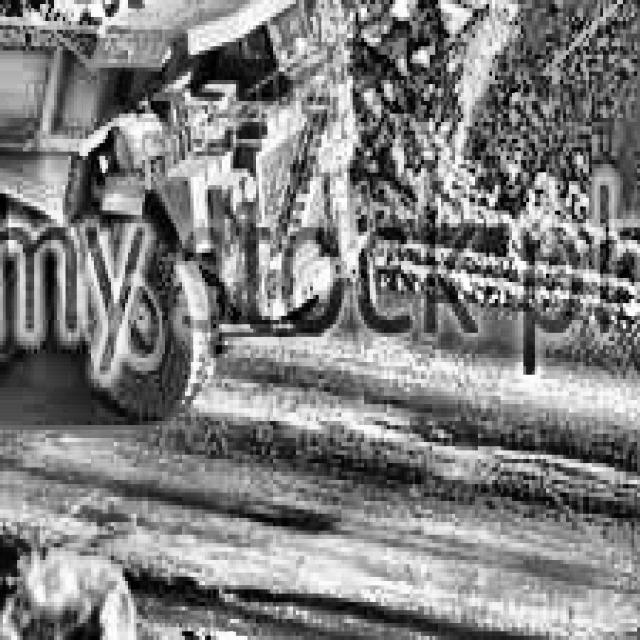dump_truck: (0, 0, 409, 446)
